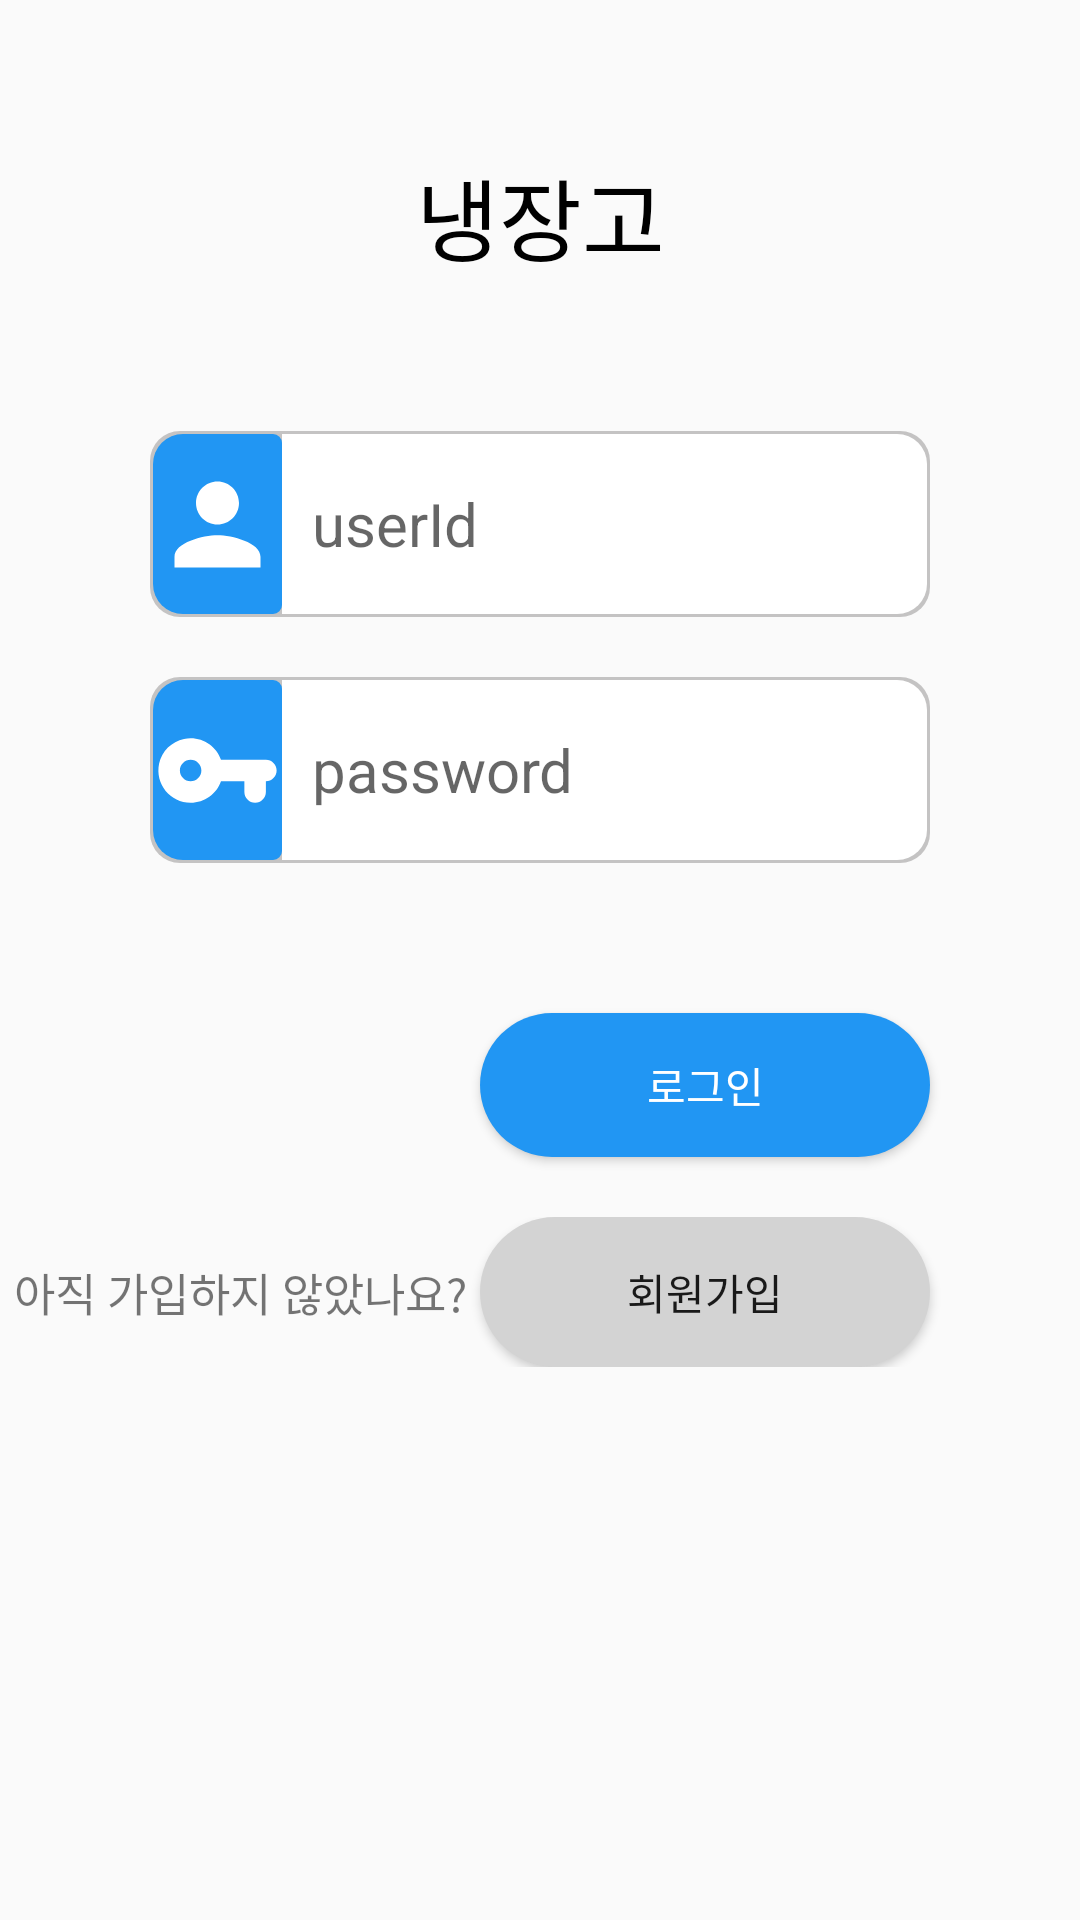

Icons on this 1080×1920 Android screen, each with the point to tap as [x,y]:
person: [217,524]
vpn key: [217,770]
